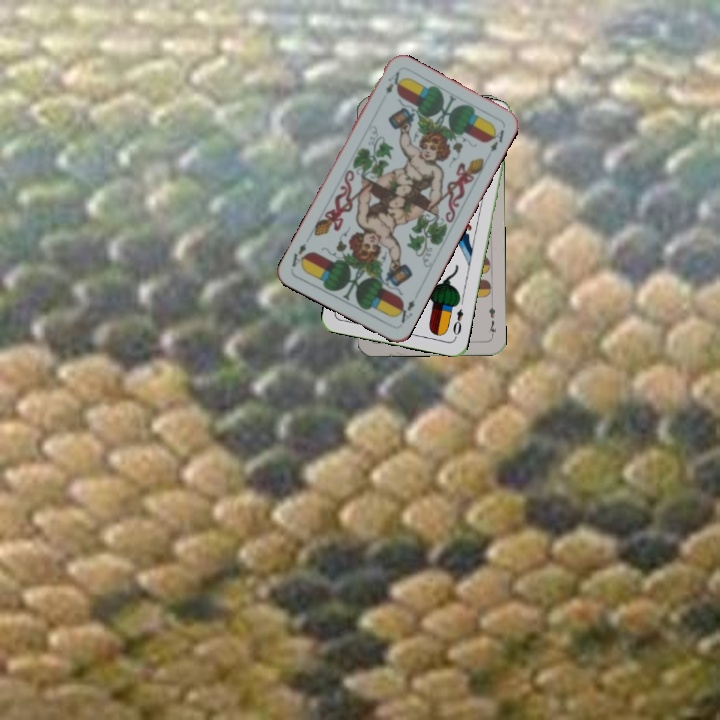E7: (484, 298, 499, 339)
EA: (392, 295, 418, 326), (381, 67, 402, 97)
EO: (449, 305, 466, 341)
